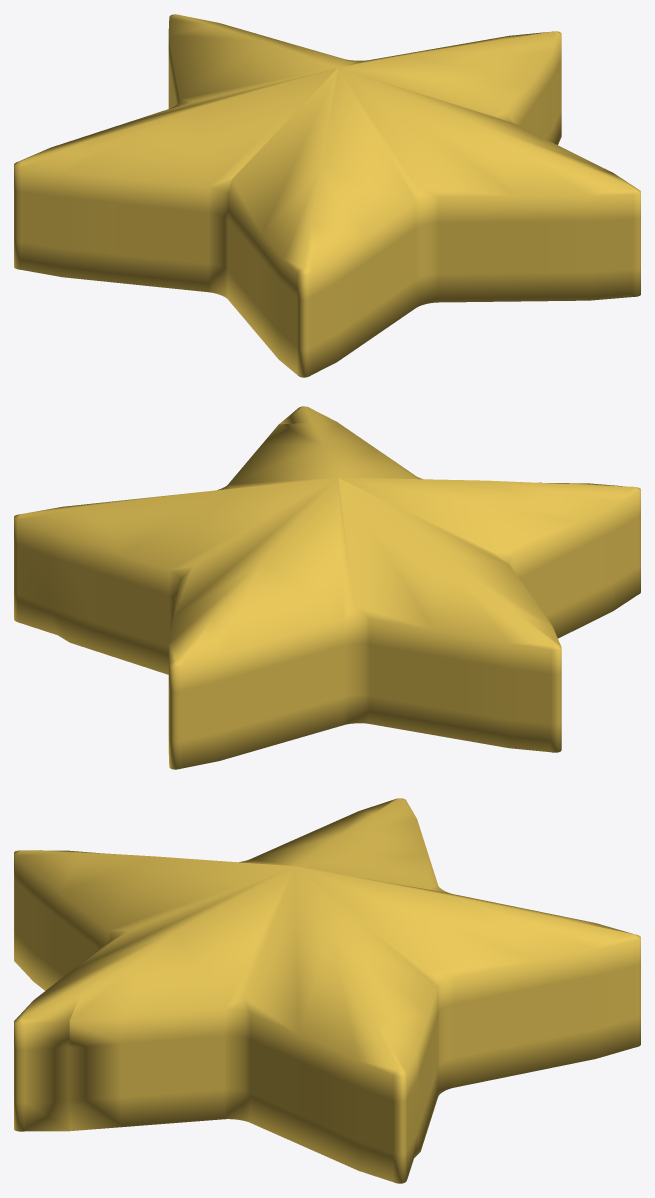
The model's file is star.glb.
3 views of the same model, one above another, from view 1: azimuth 30°, elevation 25°; view 2: azimuth 150°, elevation 25°; view 3: azimuth 270°, elevation 25° (orthographic). The views are drawn at different scales.
Visible parts, largest first — view 1: circle; view 2: circle; view 3: circle.
Boxes of the visible parts, <box> form: circle: <box>14,14,640,377</box>; circle: <box>14,406,640,769</box>; circle: <box>14,798,640,1183</box>.
Size of the model in its own units: 1.83 by 0.7424 by 1.75.
